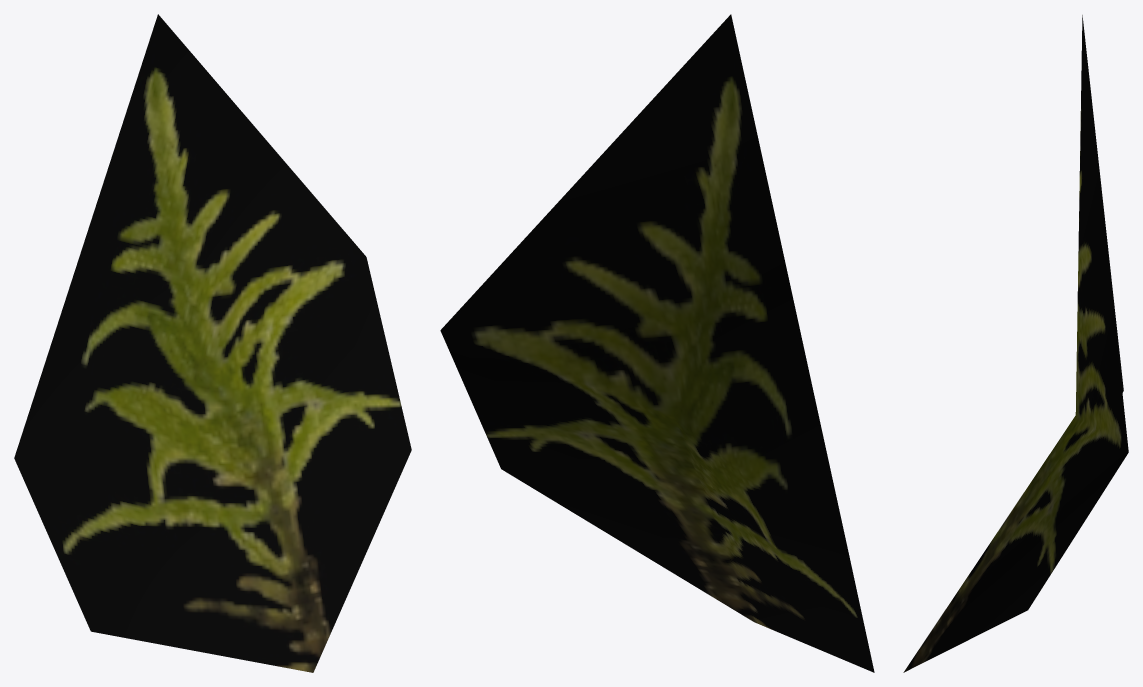
Rendered from Moss_08.fbx.
The picture shows the model from 3 angles, left to right: view 1: azimuth 30°, elevation 25°; view 2: azimuth 150°, elevation 25°; view 3: azimuth 270°, elevation 25°; orthographic projection. The views are drawn at different scales.
Parts seen in each view (by area): view 1: Moss_08; view 2: Moss_08; view 3: Moss_08.
Boxes of the visible parts, x1,y1,x2,y2 form: Moss_08: (14, 14, 411, 672); Moss_08: (440, 14, 874, 672); Moss_08: (903, 15, 1128, 672).
Size of the model in its own units: 0.0486 by 0.08 by 0.0262.
1 material, 1 textured.
